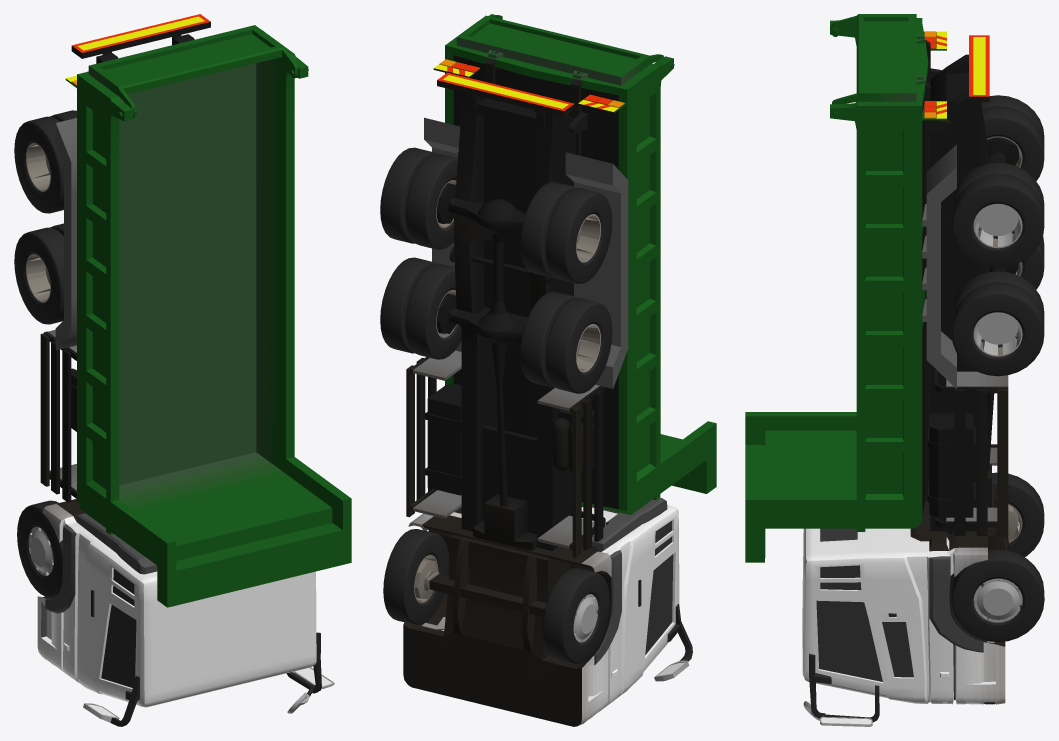
The model's file is Truck.obj.
3 views of the same model, side by side, from view 1: azimuth 30°, elevation 25°; view 2: azimuth 150°, elevation 25°; view 3: azimuth 270°, elevation 25° (orthographic). The views are drawn at different scales.
Visible parts, largest first — view 1: Dump_Box, Cabin, Platform, Door, Wheel_R-1-r, Wheel_R-2-r, Wheel_F-r, Cabin.001; view 2: Platform, Dump_Box, Cabin, Wheel_R-2-r, Wheel_R-1-r, Axle, Door, Wheel_R-1-L, Wheel_R-2-L, Wheel_F-r, Wheel_F-l, Cabin.001 (+1 smaller); view 3: Dump_Box, Cabin, Platform, Wheel_R-1-L, Wheel_R-2-L, Wheel_F-l, Door, Wheel_R-2-r, Wheel_F-r, Axle, Wheel_R-1-r.
Boxes of the visible parts, x1=… form: Dump_Box: x1=55, y1=30, x2=351, y2=607; Cabin: x1=37, y1=499, x2=334, y2=726; Platform: x1=40, y1=14, x2=210, y2=502; Door: x1=88, y1=25, x2=308, y2=117; Wheel_R-1-r: x1=14, y1=223, x2=63, y2=324; Wheel_R-2-r: x1=14, y1=110, x2=76, y2=213; Wheel_F-r: x1=17, y1=500, x2=62, y2=597; Cabin.001: x1=77, y1=513, x2=157, y2=574; Platform: x1=406, y1=72, x2=605, y2=557; Dump_Box: x1=424, y1=14, x2=716, y2=514; Cabin: x1=403, y1=505, x2=692, y2=726; Wheel_R-2-r: x1=520, y1=182, x2=612, y2=283; Wheel_R-1-r: x1=520, y1=291, x2=612, y2=393; Axle: x1=436, y1=183, x2=553, y2=506; Door: x1=456, y1=15, x2=674, y2=85; Wheel_R-1-L: x1=380, y1=257, x2=461, y2=359; Wheel_R-2-L: x1=380, y1=147, x2=457, y2=249; Wheel_F-r: x1=543, y1=568, x2=609, y2=663; Wheel_F-l: x1=383, y1=529, x2=449, y2=624; Cabin.001: x1=592, y1=497, x2=667, y2=550; Dump_Box: x1=745, y1=18, x2=956, y2=562; Cabin: x1=802, y1=487, x2=1009, y2=726; Platform: x1=927, y1=35, x2=1008, y2=535; Wheel_R-1-L: x1=951, y1=271, x2=1044, y2=376; Wheel_R-2-L: x1=951, y1=162, x2=1044, y2=267; Wheel_F-l: x1=951, y1=549, x2=1044, y2=642; Door: x1=832, y1=14, x2=924, y2=116; Wheel_R-2-r: x1=981, y1=95, x2=1044, y2=181; Wheel_F-r: x1=992, y1=472, x2=1044, y2=557; Axle: x1=981, y1=137, x2=1018, y2=471; Wheel_R-1-r: x1=1015, y1=236, x2=1044, y2=289.
Bounding box in the file's own units: 3.13 × 8.54 × 3.66.
2 materials, 2 textured.
